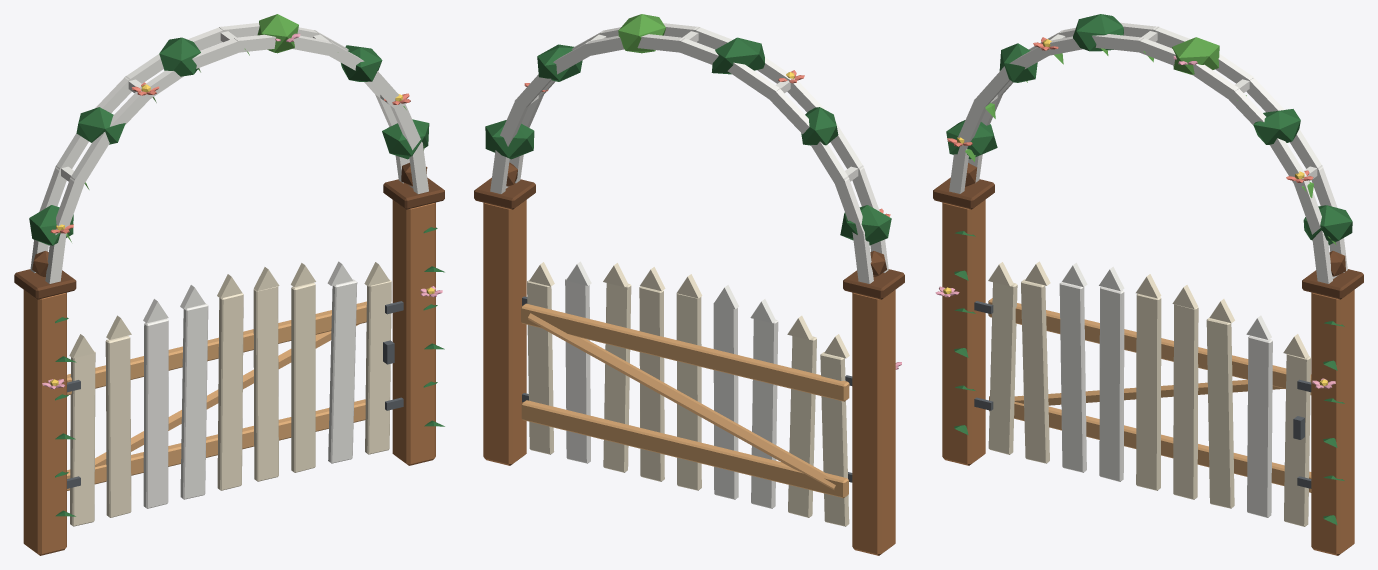
File: fence_gate.glb
3 renders of one model, left to right at view 1: azimuth 30°, elevation 25°; view 2: azimuth 150°, elevation 25°; view 3: azimuth 330°, elevation 25°, orthographic.
Visible parts, largest first — view 1: Fence Gate; view 2: Fence Gate; view 3: Fence Gate.
Boxes of the visible parts, <box> form: Fence Gate: <box>14,14,444,555</box>; Fence Gate: <box>474,14,904,555</box>; Fence Gate: <box>933,14,1363,555</box>.
Bounding box in the file's own units: 2.22 × 2.47 × 0.3101.
1 material, 1 textured.
